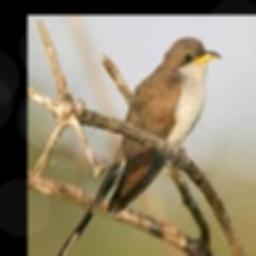Cuckoo: (55, 37, 221, 256)
